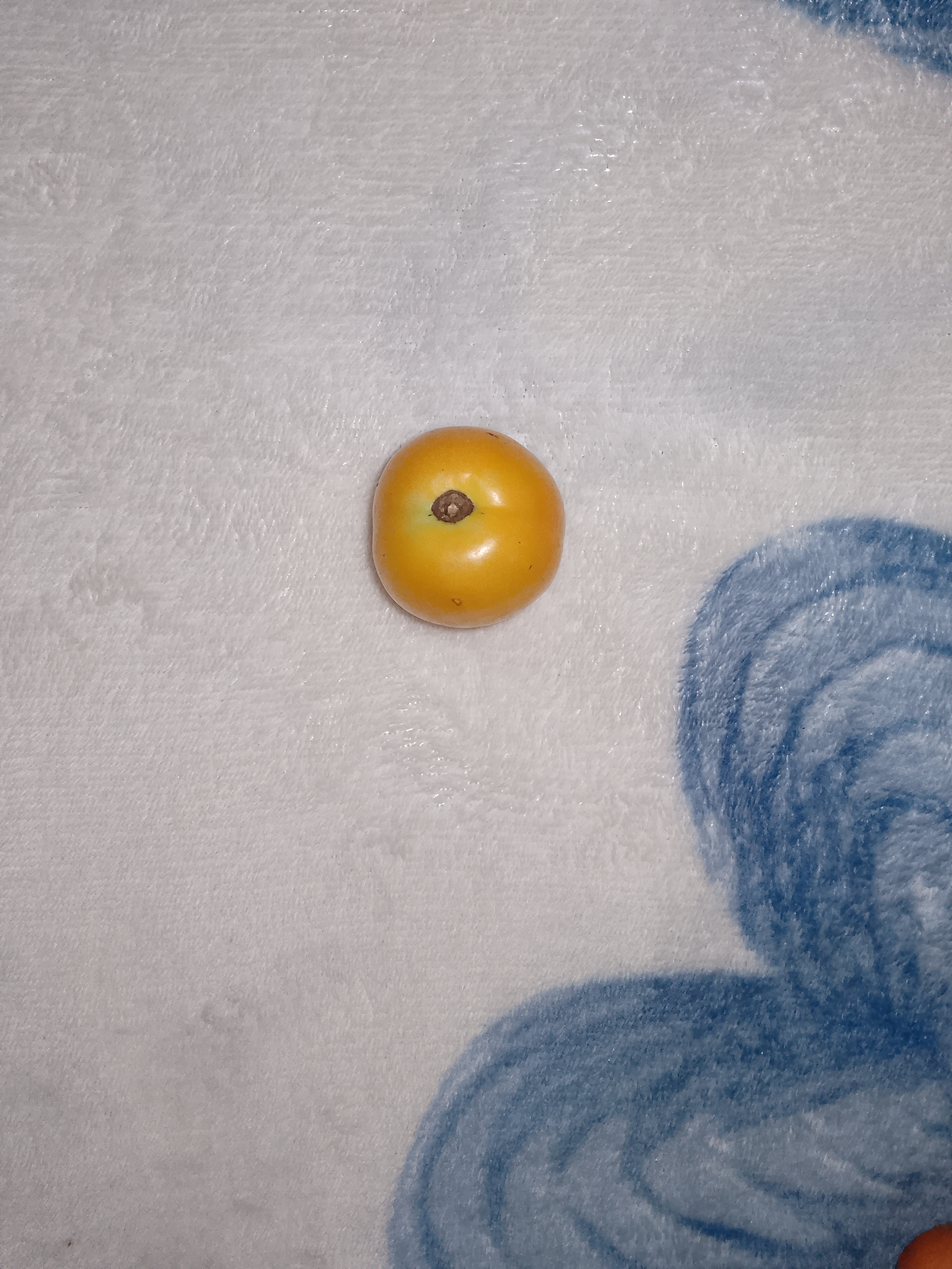Ripe: (317, 381, 649, 690)
